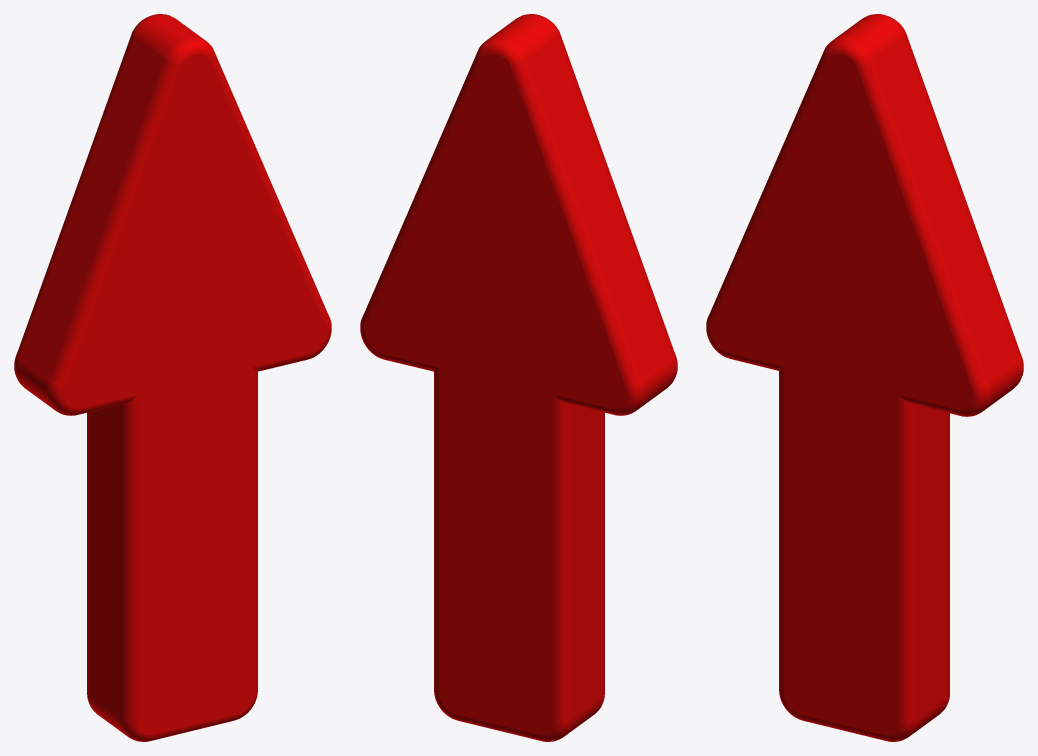
The model's file is sarah_arrow.fbx.
The picture shows the model from 3 angles, left to right: view 1: azimuth 30°, elevation 25°; view 2: azimuth 150°, elevation 25°; view 3: azimuth 330°, elevation 25°; orthographic projection.
Visible parts, largest first — view 1: Extrude_1; view 2: Extrude_1; view 3: Extrude_1.
Boxes of the visible parts, box(x1,y1,x2,y2) form: Extrude_1: box(14, 14, 331, 741); Extrude_1: box(360, 14, 677, 741); Extrude_1: box(706, 14, 1023, 741).
Size of the model in its own units: 140 by 328 by 38.91.
